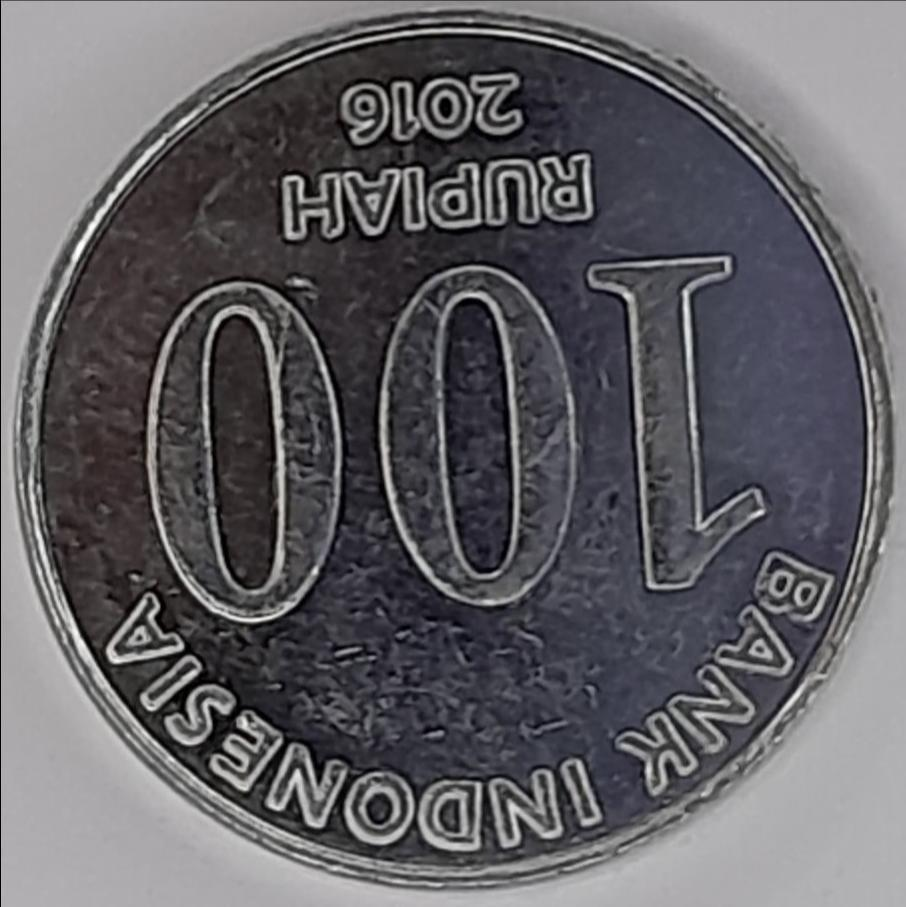coin_100_e2016: (8, 1, 901, 890)
